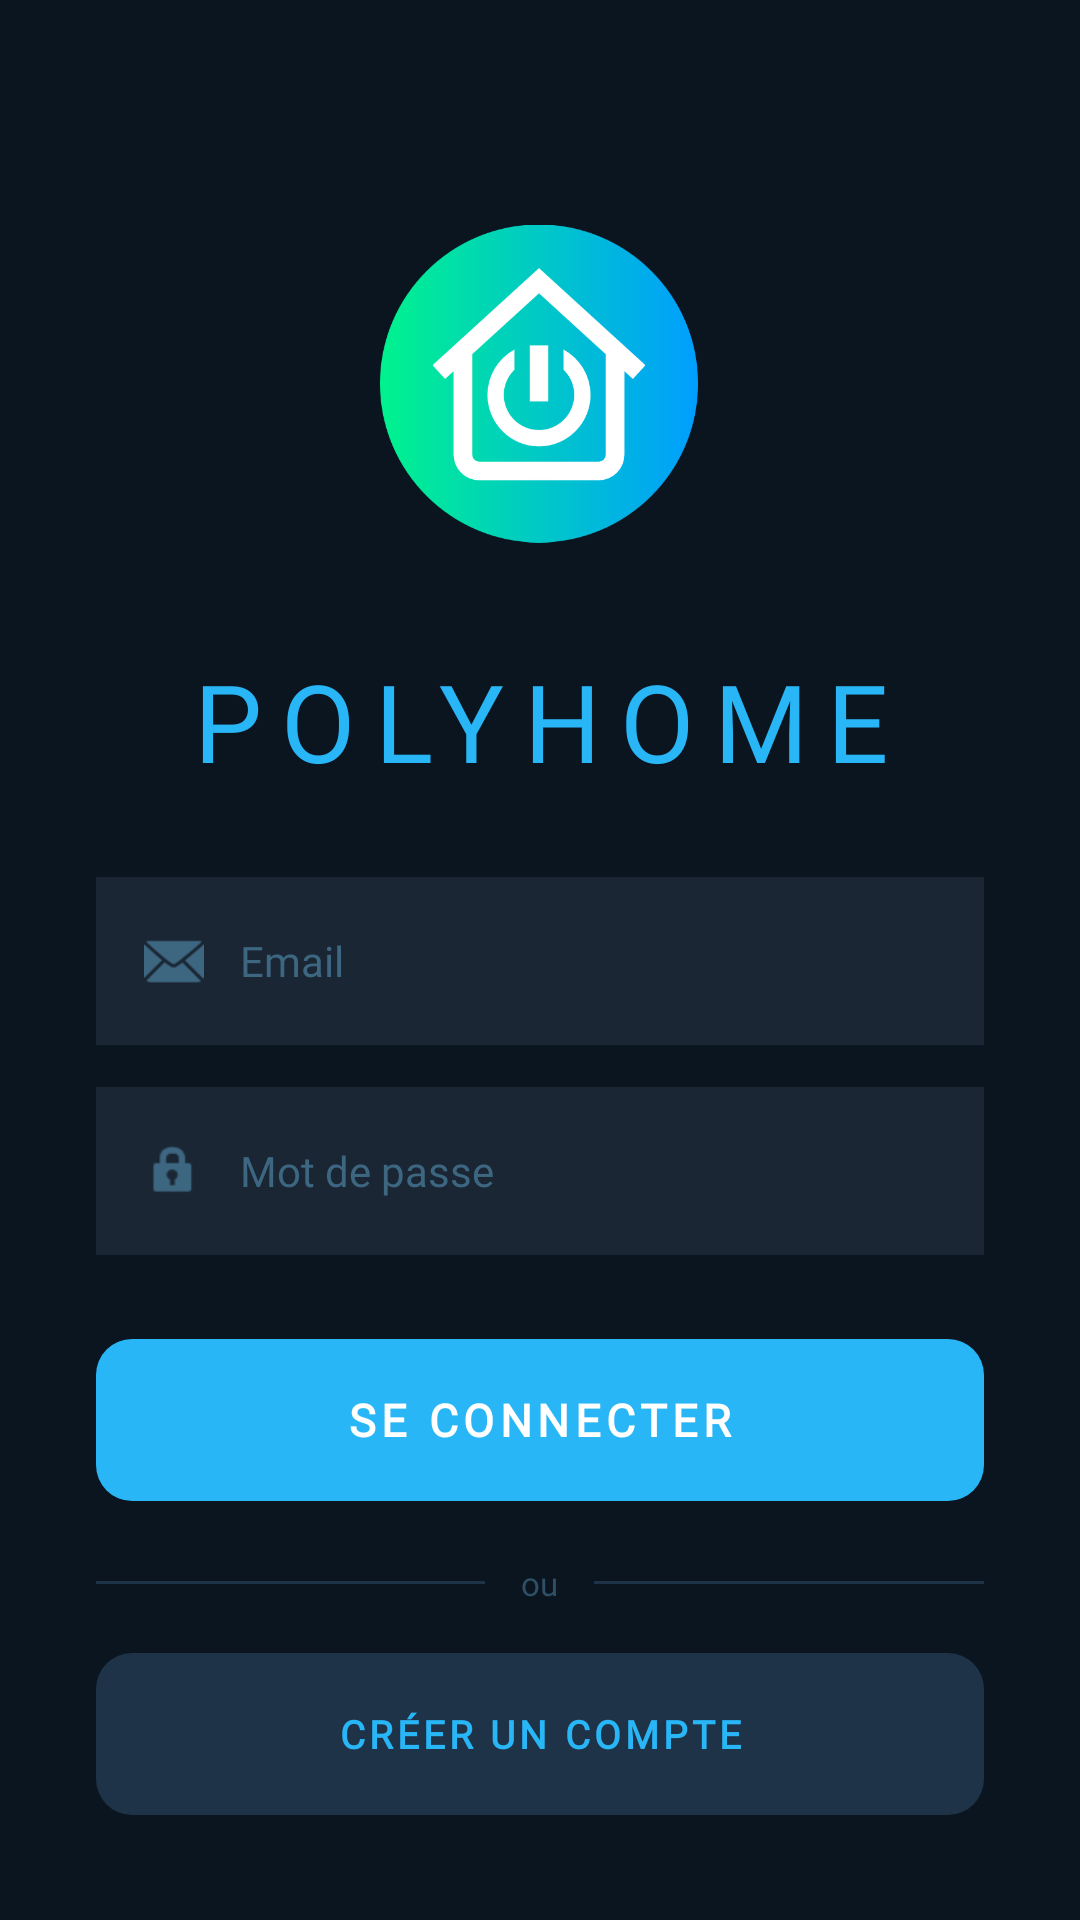

Where to tap for icons on this 1080×1920 app screen, as point (x, y):
lock idle: point (172, 1169)
